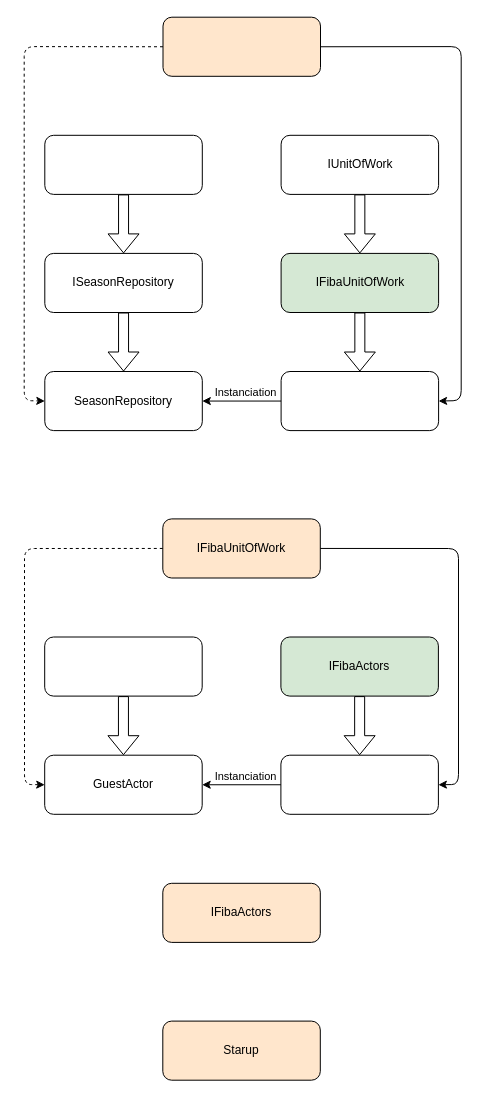
The diagram is 487 pixels wide and 1098 high, and some of its shapes have lost their labels. Here are the shapes that lost their labels. From the top down, the centre of each, then its label:
At point (241, 46): "FibaDbContext".
At point (123, 164): "IRepository".
At point (359, 400): "FibaUnitOfWork".
At point (123, 666): "IGuestActor".
At point (359, 784): "FibaActors".
